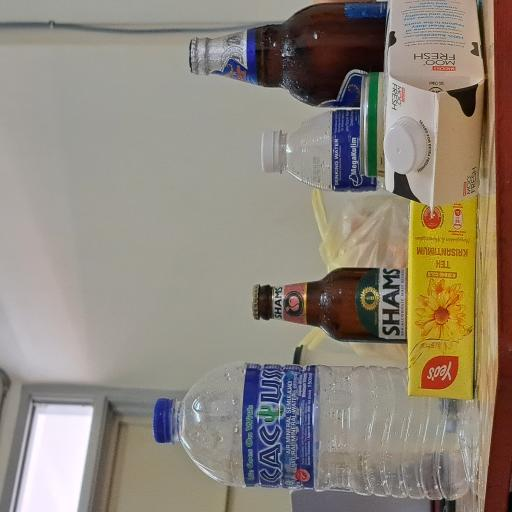glass bottle: (305, 248, 384, 512), (127, 331, 185, 512)
plastic bottle: (13, 238, 120, 512), (242, 344, 306, 512)
plastic bottle cap: (50, 198, 86, 237), (255, 342, 286, 376)
